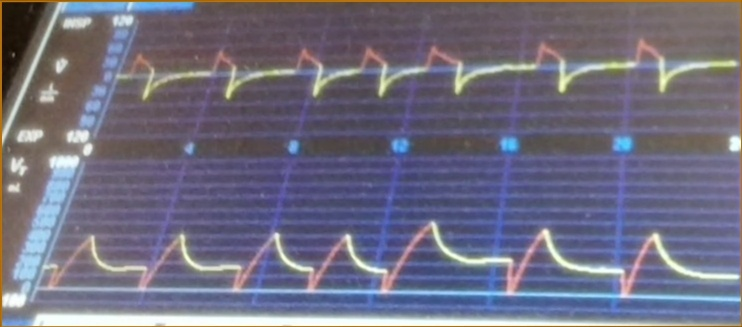Flow: (130, 27, 737, 131)
Leakage Volume: (72, 195, 734, 312)
